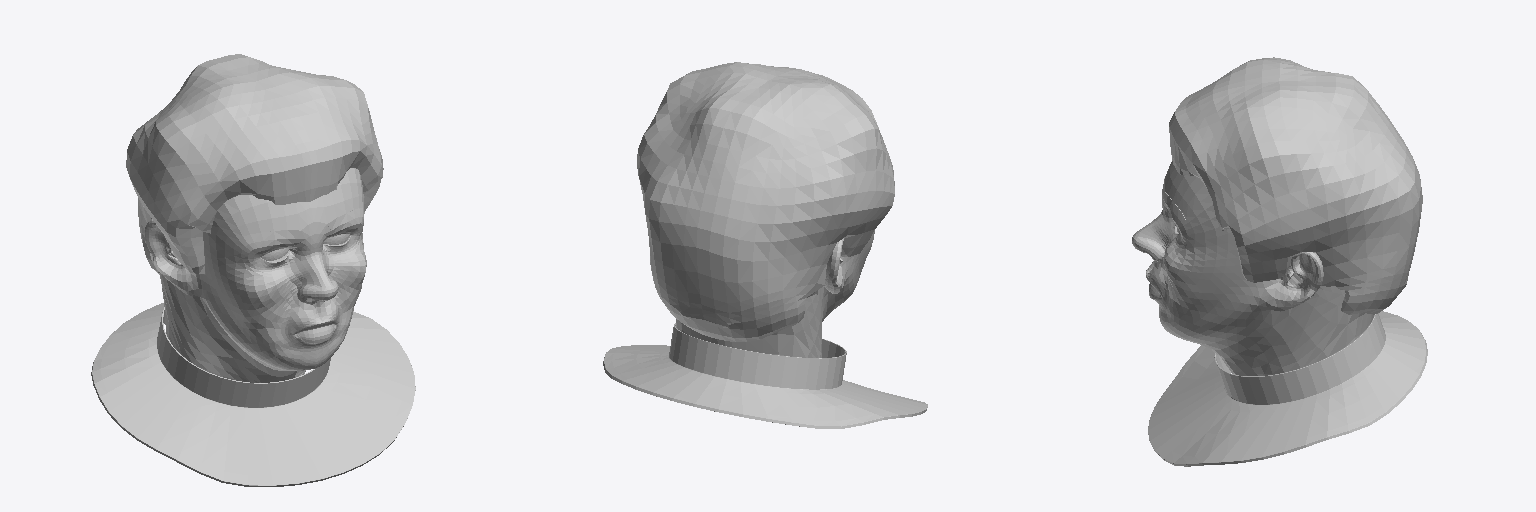
The model's file is Female_Avatar_With_Short hair.obj.
3 views of the same model, side by side, from view 1: azimuth 30°, elevation 25°; view 2: azimuth 150°, elevation 25°; view 3: azimuth 270°, elevation 25° (orthographic).
Visible parts, largest first — view 1: Female_Avatar_With_Short_hair; view 2: Female_Avatar_With_Short_hair; view 3: Female_Avatar_With_Short_hair.
Boxes of the visible parts, <box> form: Female_Avatar_With_Short_hair: <box>91,54,415,486</box>; Female_Avatar_With_Short_hair: <box>603,62,927,428</box>; Female_Avatar_With_Short_hair: <box>1132,57,1427,466</box>.
Size of the model in its own units: 76.44 by 88.67 by 67.19.